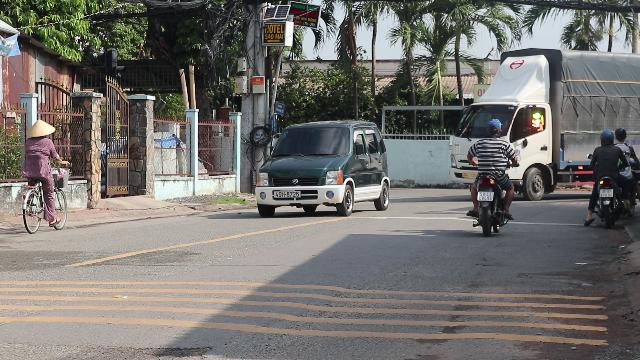helmet: (600, 131, 614, 147)
licenseplate: (478, 192, 494, 200), (600, 189, 612, 197)
motorcyclist: (464, 117, 516, 235), (584, 128, 638, 228)
nohelmet: (486, 117, 502, 134)
